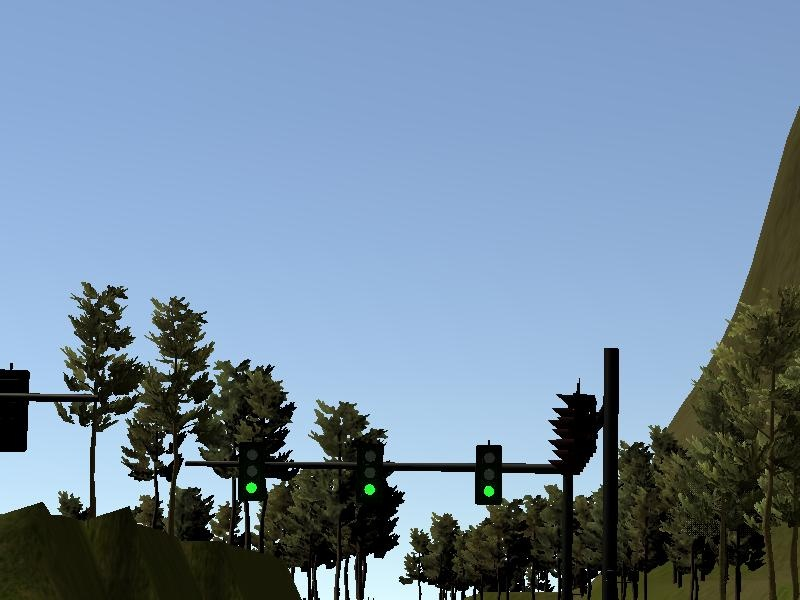GREEN: (238, 441, 267, 503), (355, 442, 383, 505), (475, 445, 501, 505)
